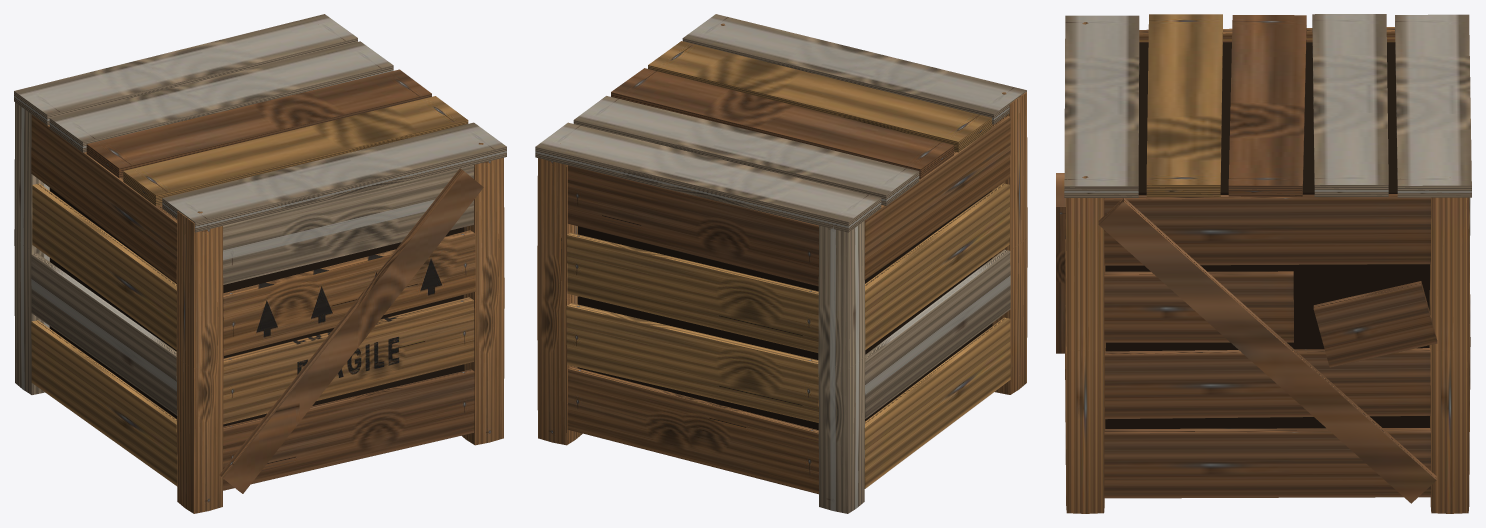
The model's file is prop_soft_crate_b.glb.
3 renders of one model, left to right at view 1: azimuth 30°, elevation 25°; view 2: azimuth 150°, elevation 25°; view 3: azimuth 270°, elevation 25°, orthographic. The views are drawn at different scales.
Visible parts, largest first — view 1: prop_soft_crate_b_body; view 2: prop_soft_crate_b_body; view 3: prop_soft_crate_b_body.
Part boxes in pixels (x1,y1,x2,y2): prop_soft_crate_b_body: [14, 14, 506, 513]; prop_soft_crate_b_body: [535, 14, 1027, 513]; prop_soft_crate_b_body: [1056, 14, 1471, 513].
Bounding box in the file's own units: 0.7572 × 0.6642 × 0.7585.
1 material, 1 textured.
